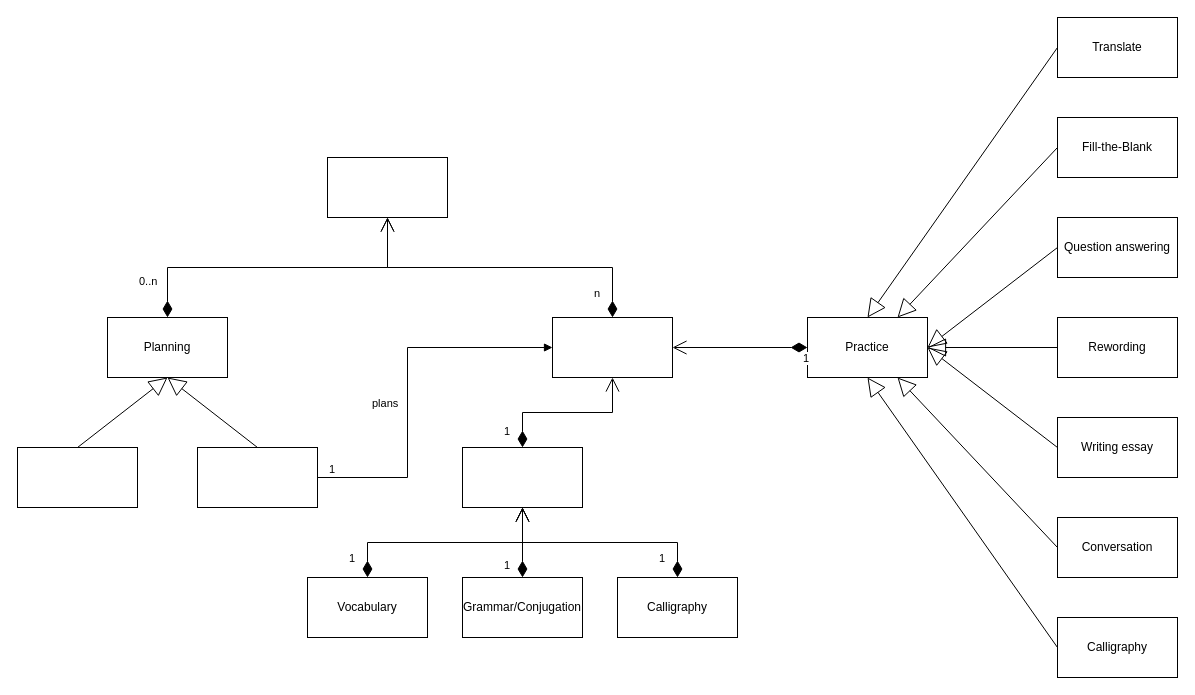
This 1195x695 diagram has some shape labels left out. Here are the shapes that lost their labels. From the top down, the centre of each, then its label:
the point at 387,187: Course
the point at 612,347: Unit
the point at 77,477: Course Planning
the point at 257,477: Unit Planning
the point at 522,477: Learn
